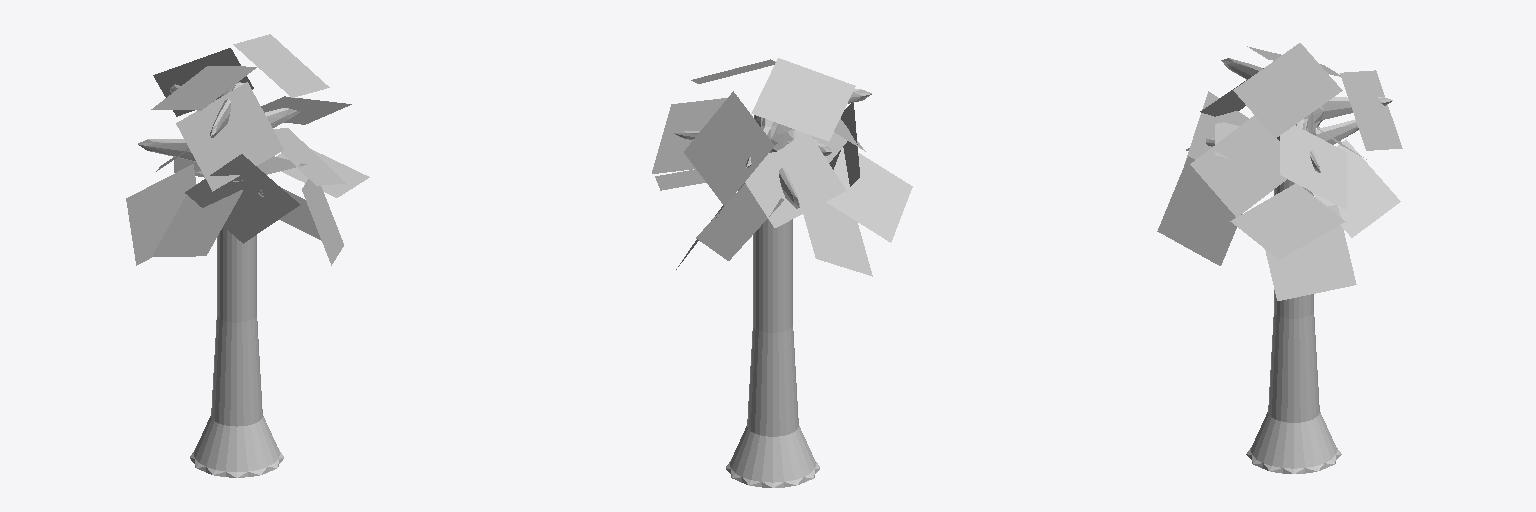
File: tree.obj
3 renders of one model, left to right at view 1: azimuth 30°, elevation 25°; view 2: azimuth 150°, elevation 25°; view 3: azimuth 270°, elevation 25°, orthographic.
Visible parts, largest first — view 1: Cylinder_Cylinder.001; view 2: Cylinder_Cylinder.001; view 3: Cylinder_Cylinder.001.
Part boxes in pixels (bbox=[...]): Cylinder_Cylinder.001: bbox=[126, 34, 369, 477]; Cylinder_Cylinder.001: bbox=[652, 58, 912, 487]; Cylinder_Cylinder.001: bbox=[1157, 43, 1402, 473].
Bounding box in the file's own units: 6.31 × 10.98 × 5.89.